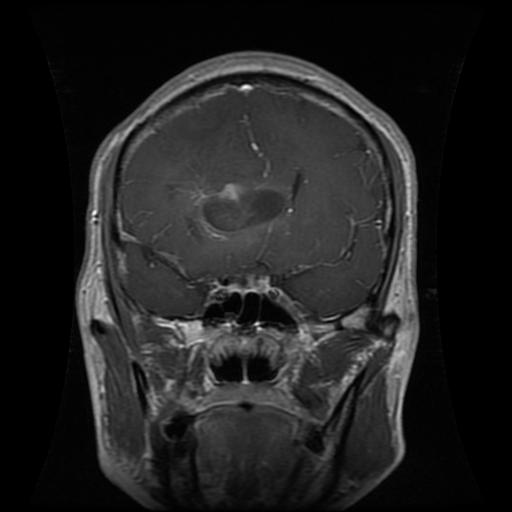Gliomia_tumour: (176, 166, 306, 244)
